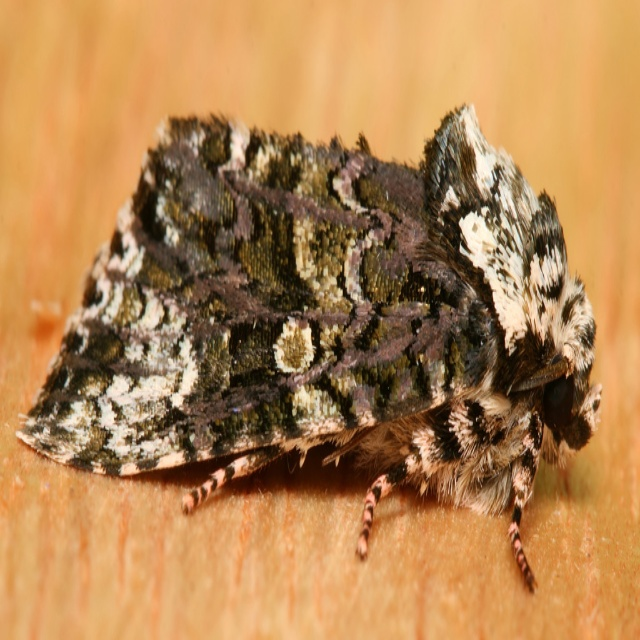Moths and butterflies: (12, 97, 606, 589)
